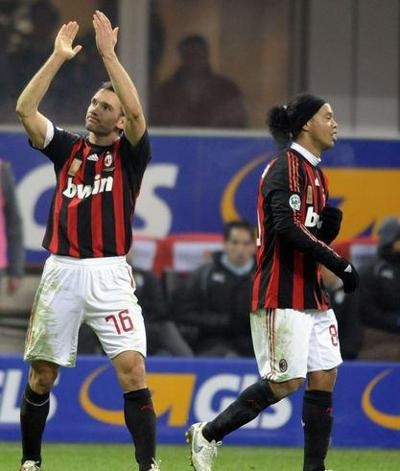person without safety: (9, 8, 164, 468), (242, 84, 364, 468)
